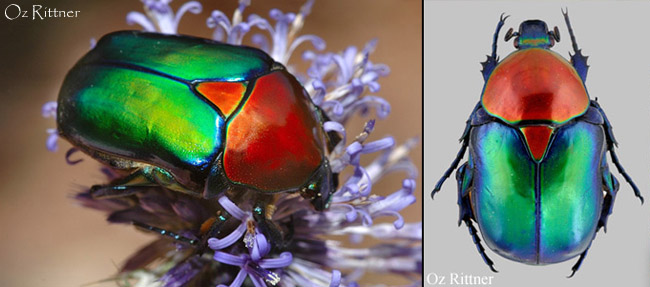Protaetia_speciosa_jousselini: (435, 4, 643, 278), (44, 23, 341, 214)
